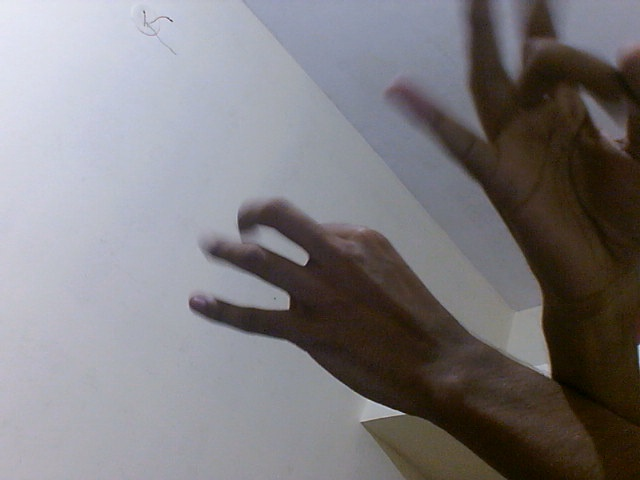hand: (376, 1, 640, 315), (187, 194, 483, 430)
